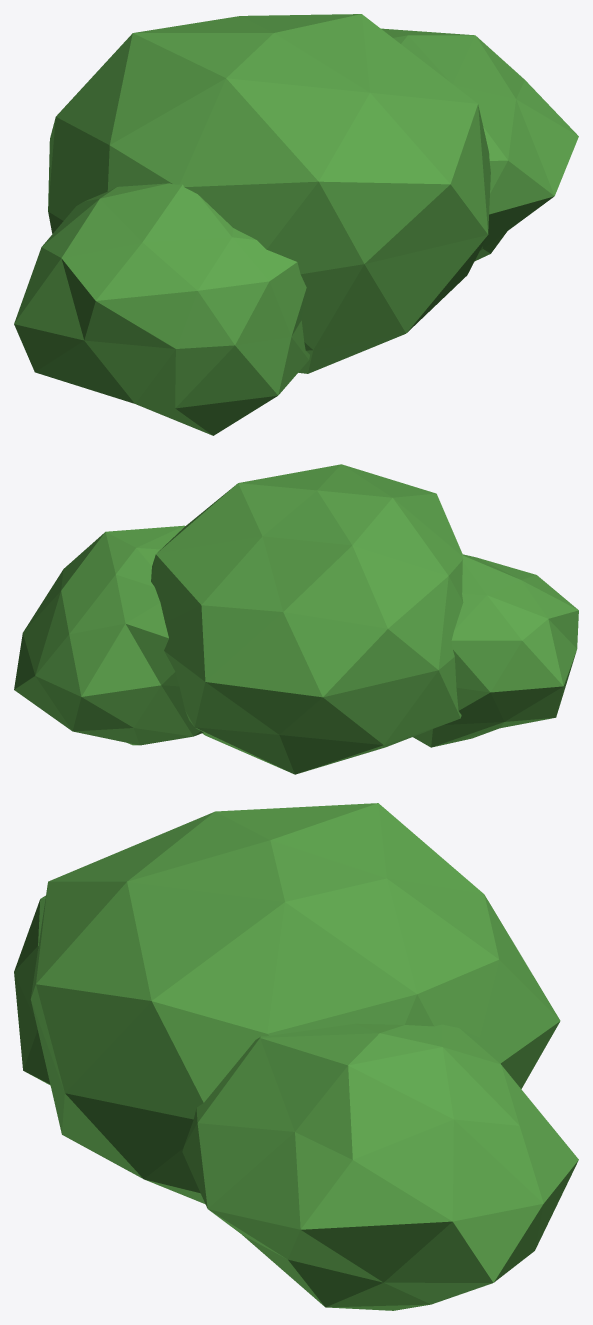
The model's file is bush.glb.
3 views of the same model, one above another, from view 1: azimuth 30°, elevation 25°; view 2: azimuth 150°, elevation 25°; view 3: azimuth 270°, elevation 25° (orthographic). The views are drawn at different scales.
Visible parts, largest first — view 1: Icosphere; view 2: Icosphere; view 3: Icosphere.
Boxes of the visible parts, x1,y1,x2,y2 form: Icosphere: (14,14,578,435); Icosphere: (14,464,578,774); Icosphere: (14,803,578,1310).
Size of the model in its own units: 0.9749 by 0.5074 by 0.6997.
